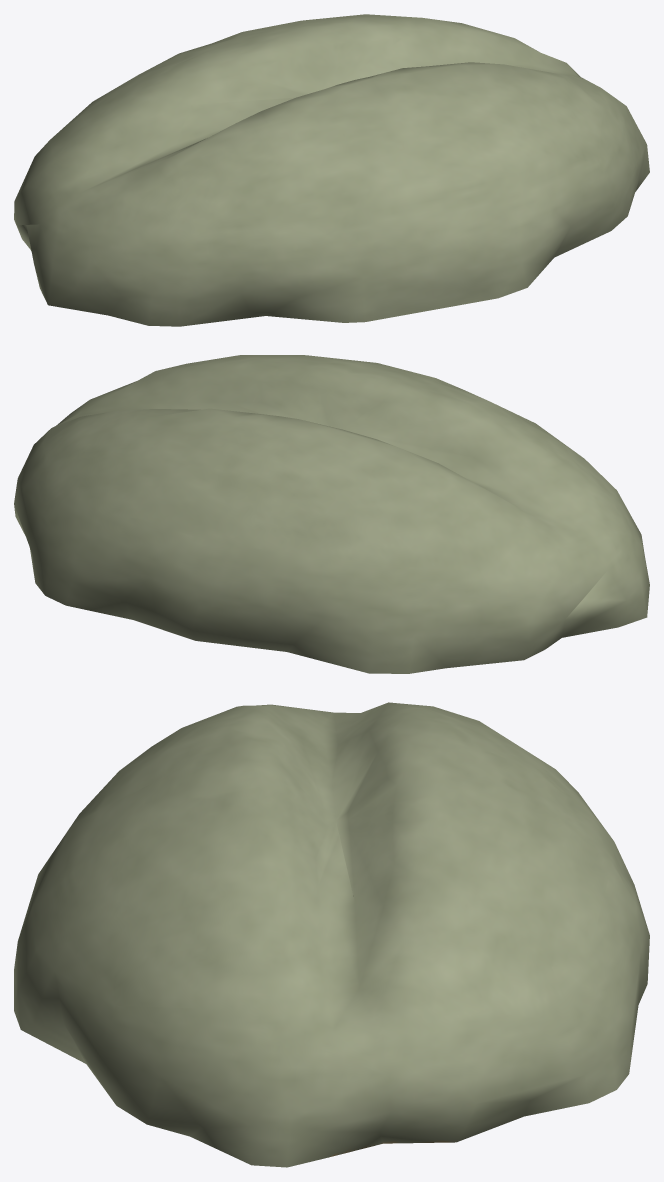
Rendered from bean_broken_lod.glb.
The picture shows the model from 3 angles, top to bottom: view 1: azimuth 30°, elevation 25°; view 2: azimuth 150°, elevation 25°; view 3: azimuth 270°, elevation 25°; orthographic projection. The views are drawn at different scales.
Visible parts, largest first — view 1: bean_broken; view 2: bean_broken; view 3: bean_broken.
Boxes of the visible parts, x1,y1,x2,y2 form: bean_broken: (14, 14, 649, 326); bean_broken: (14, 355, 649, 673); bean_broken: (14, 702, 649, 1167).
Bounding box in the file's own units: 0.01 × 0.00257 × 0.00718.
1 material, 1 textured.
